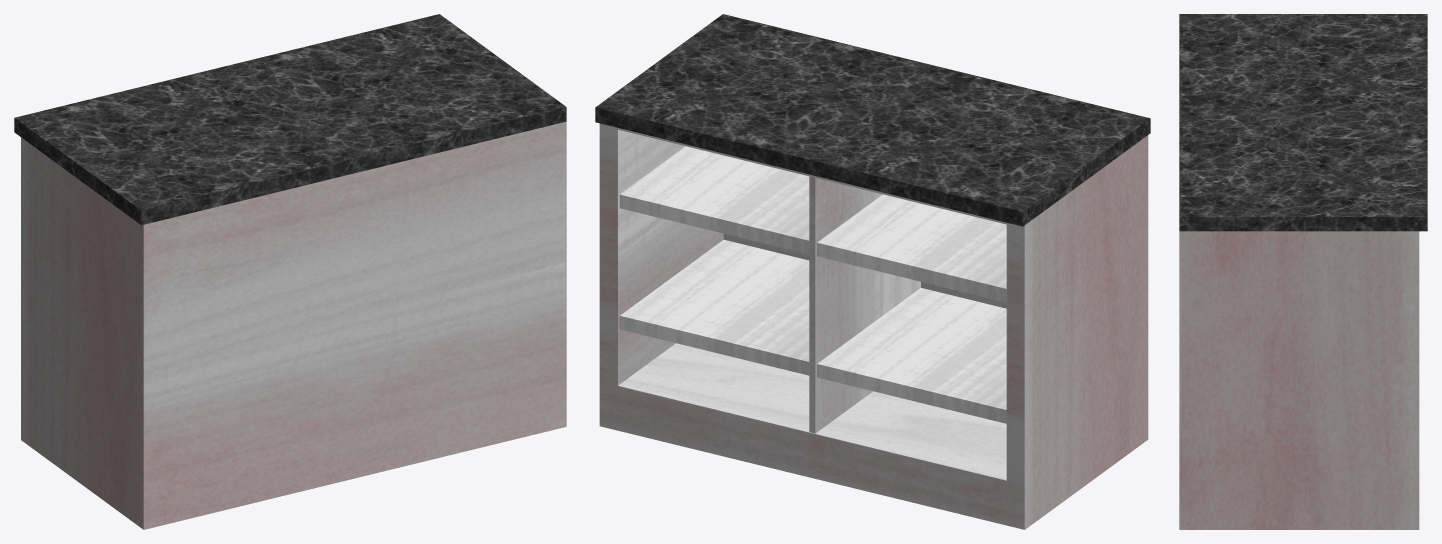
Rendered from cupbpard5.fbx.
The picture shows the model from 3 angles, left to right: view 1: azimuth 30°, elevation 25°; view 2: azimuth 150°, elevation 25°; view 3: azimuth 270°, elevation 25°; orthographic projection. The views are drawn at different scales.
Parts seen in each view (by area): view 1: cupboard5; view 2: cupboard5; view 3: cupboard5.
Part boxes in pixels (x1=…): cupboard5: x1=14, y1=14, x2=566, y2=529; cupboard5: x1=595, y1=14, x2=1150, y2=529; cupboard5: x1=1179, y1=14, x2=1427, y2=529.
Bounding box in the file's own units: 2.22 × 1.6 × 1.15.
